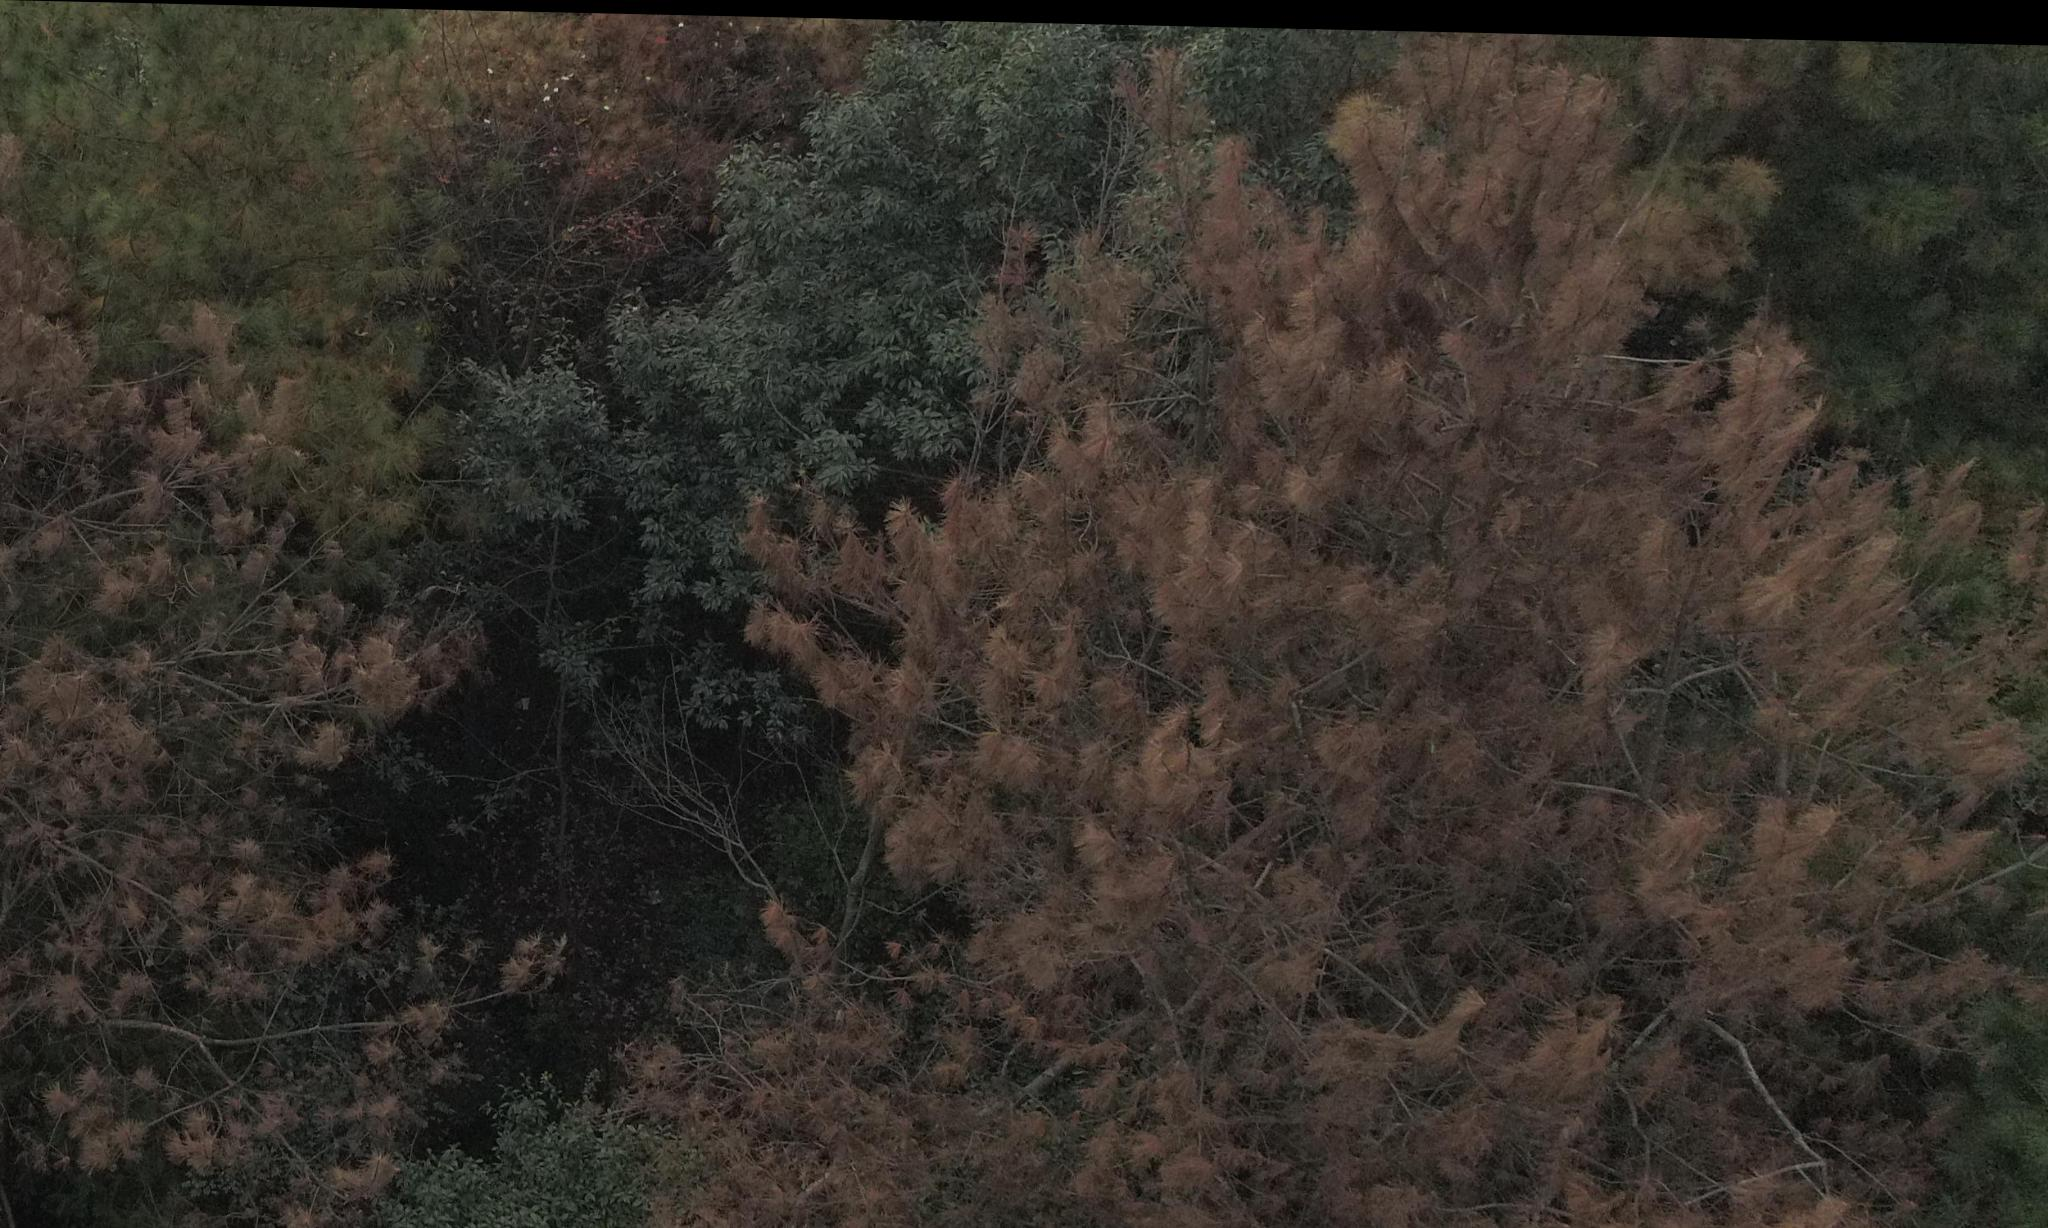heavy: (670, 15, 2048, 1228), (0, 143, 541, 1228), (336, 7, 931, 349)
